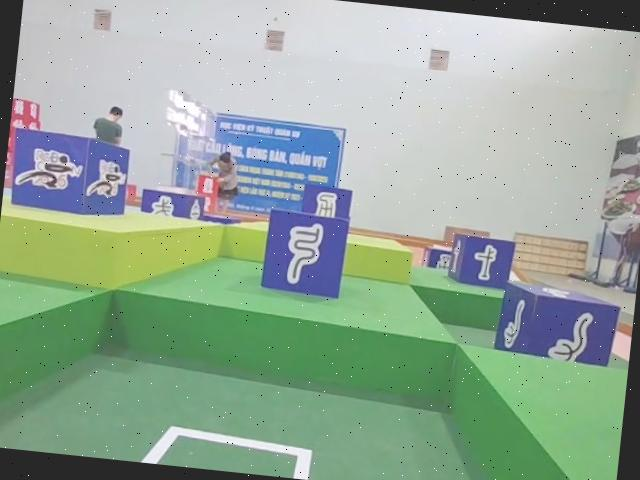R1 Blue: (5, 127, 131, 220)
R2 Fake Blue: (260, 208, 350, 301), (144, 190, 209, 223), (303, 182, 355, 220)
R2 Real Blue: (496, 280, 625, 369), (450, 233, 518, 290)
